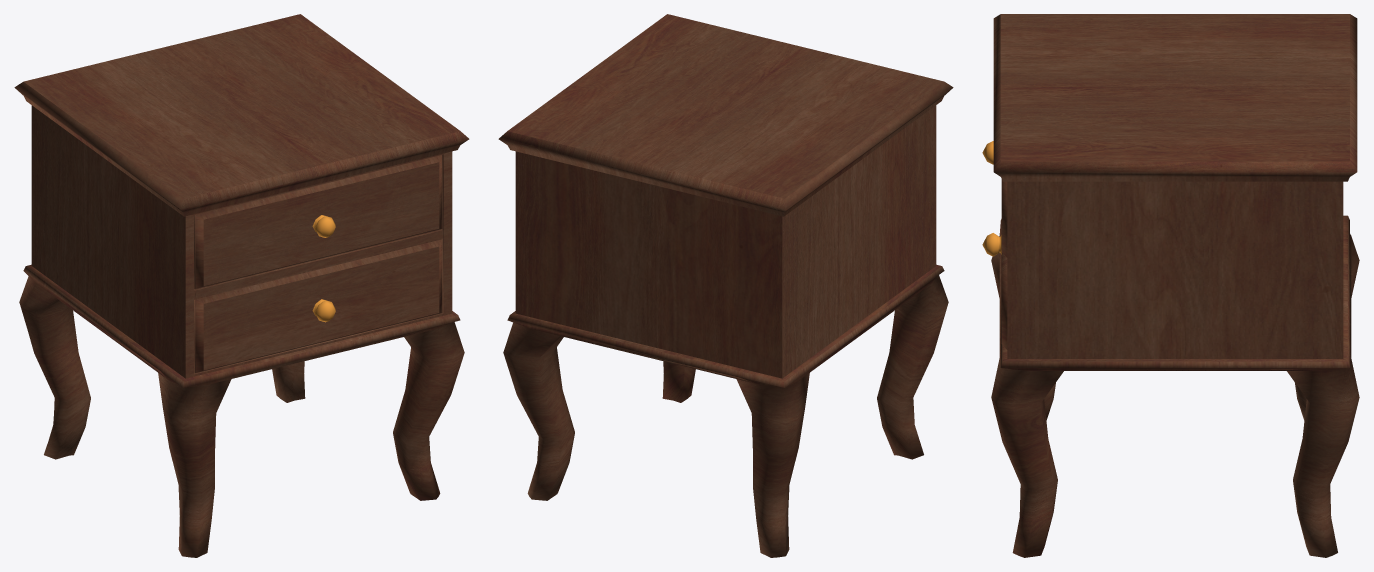
Rendered from night-table.fbx.
3 renders of one model, left to right at view 1: azimuth 30°, elevation 25°; view 2: azimuth 150°, elevation 25°; view 3: azimuth 270°, elevation 25°, orthographic. The views are drawn at different scales.
Visible parts, largest first — view 1: night-table; view 2: night-table; view 3: night-table.
Part boxes in pixels (<box>): night-table: <box>14,14,469,557</box>; night-table: <box>498,14,953,557</box>; night-table: <box>982,14,1359,557</box>.
Size of the model in its own units: 110 by 112 by 132.
Materials: 2 (1 with a texture image).
